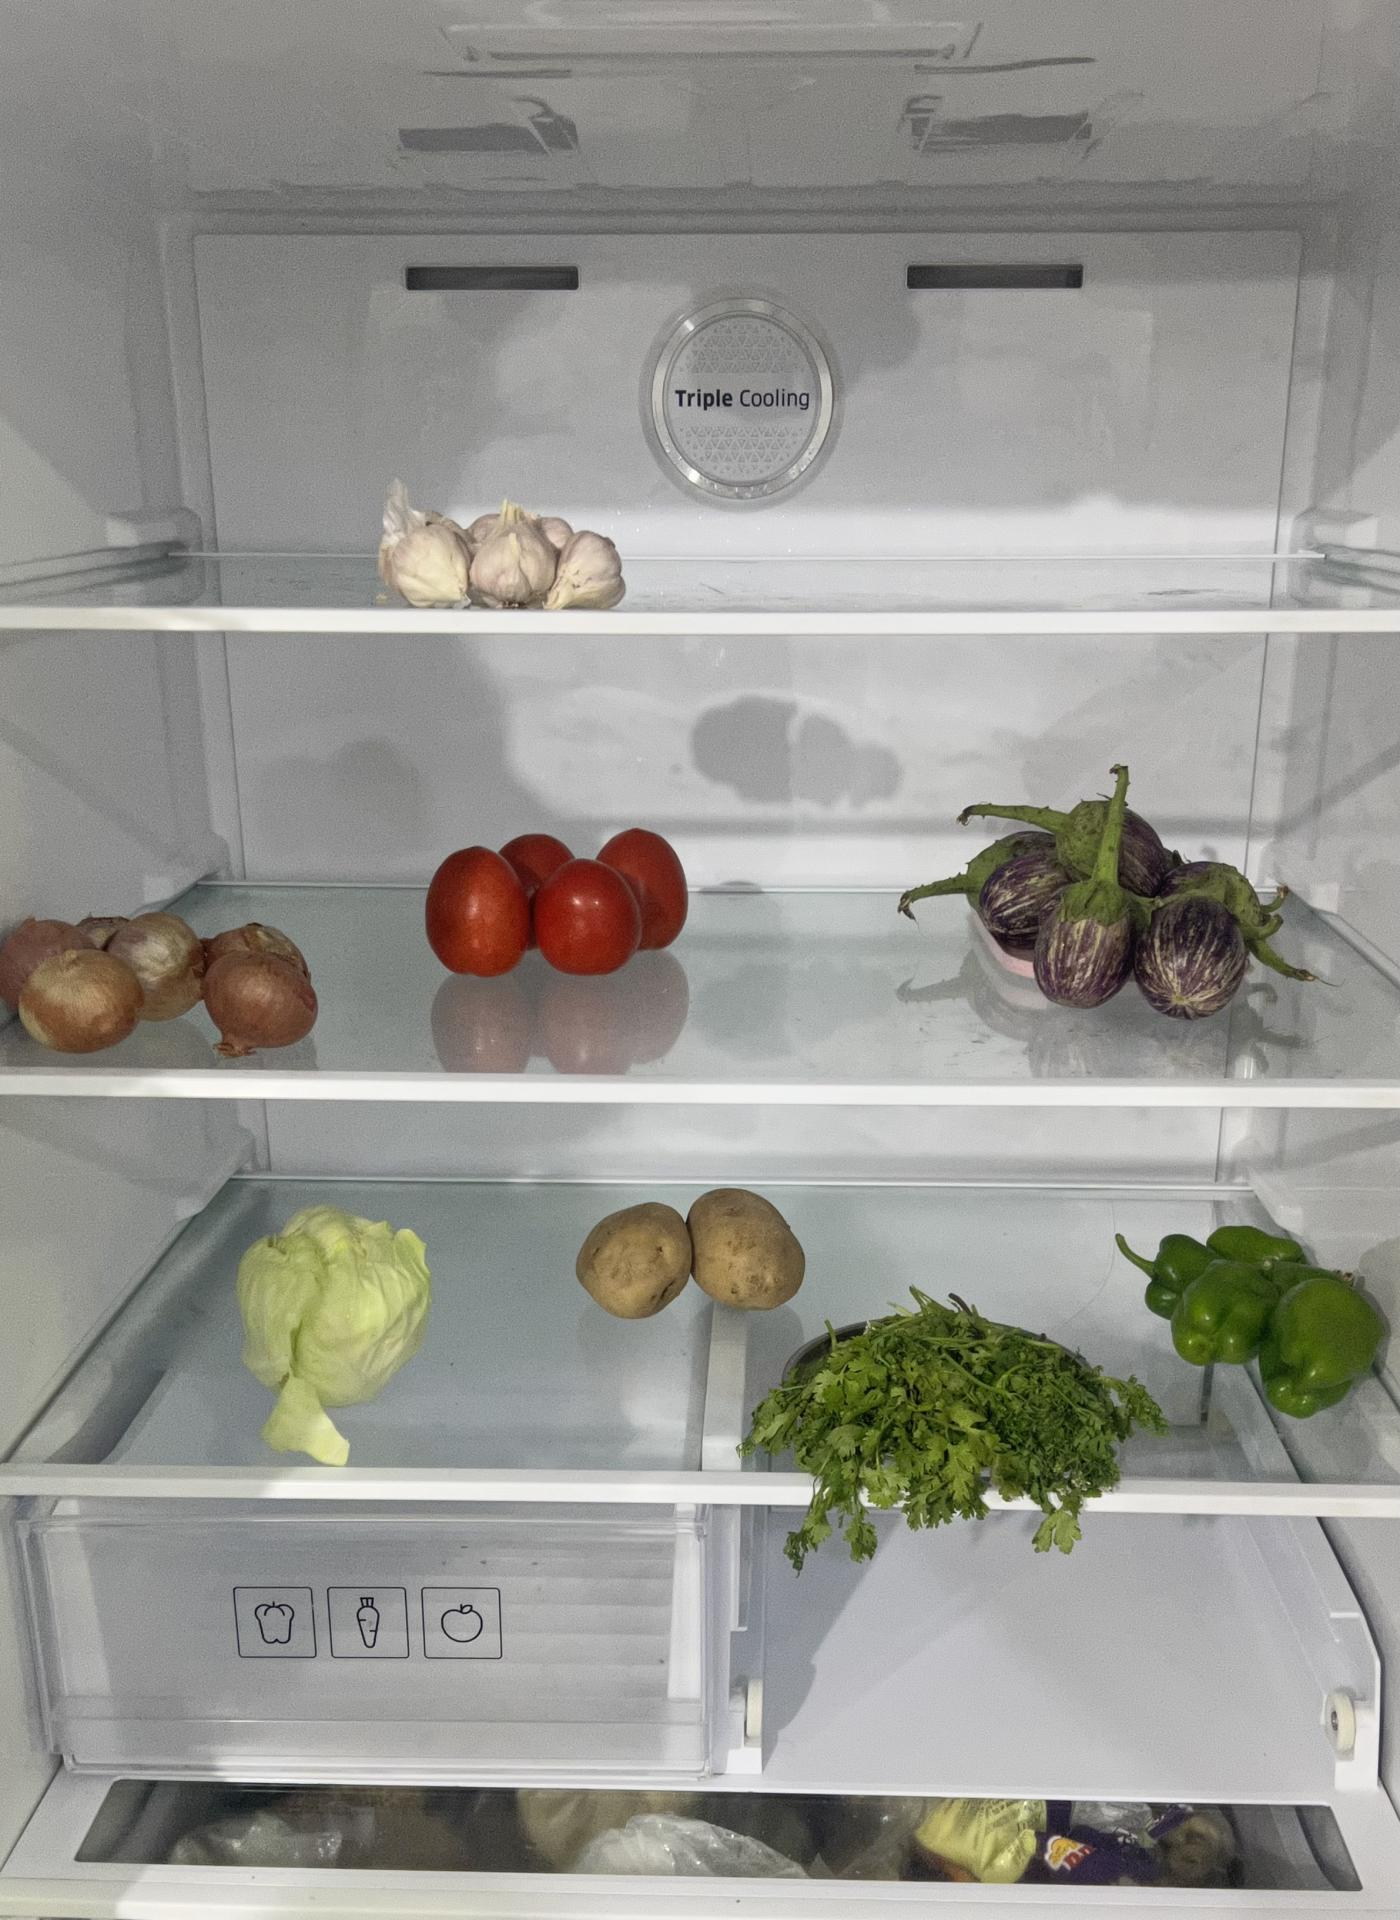brinjal: (960, 787, 1297, 1030)
cabbage: (236, 1210, 429, 1409)
capsicum: (1141, 1210, 1387, 1421)
coriander: (747, 1307, 1157, 1525)
garlic: (374, 496, 626, 616)
onion: (19, 896, 313, 1060)
potato: (573, 1188, 805, 1319)
tomato: (422, 821, 686, 972)
